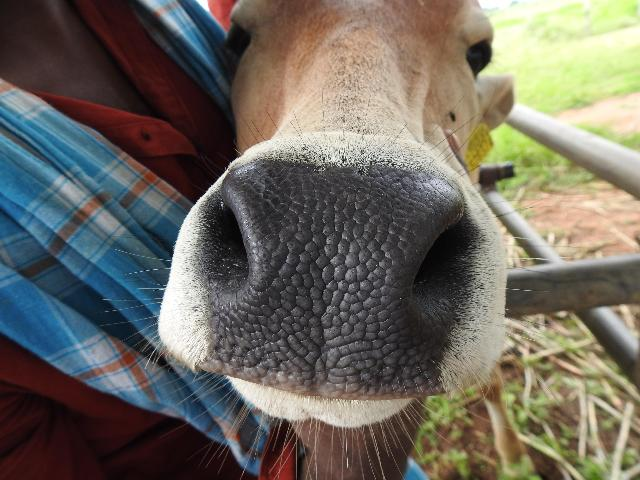Muzzle: (246, 167, 416, 379)
